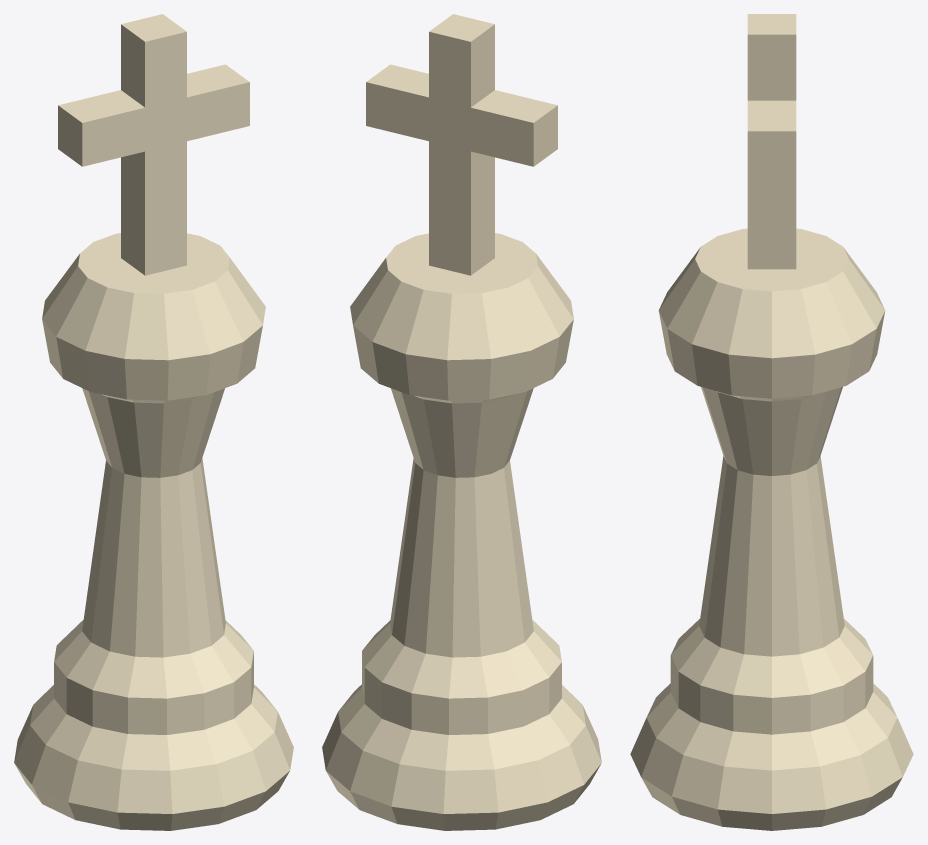
Rendered from SM_IntellectualGrandpaHouse_Chess_White_King.fbx.
The picture shows the model from 3 angles, left to right: view 1: azimuth 30°, elevation 25°; view 2: azimuth 150°, elevation 25°; view 3: azimuth 270°, elevation 25°; orthographic projection.
Parts seen in each view (by area): view 1: SM_IntellectualGrandpaHouse_Chess_White_King; view 2: SM_IntellectualGrandpaHouse_Chess_White_King; view 3: SM_IntellectualGrandpaHouse_Chess_White_King.
Boxes of the visible parts, x1,y1,x2,y2 form: SM_IntellectualGrandpaHouse_Chess_White_King: (14,14,293,830); SM_IntellectualGrandpaHouse_Chess_White_King: (322,14,601,830); SM_IntellectualGrandpaHouse_Chess_White_King: (630,14,913,830).
Size of the model in its own units: 7 by 7 by 20.5.
